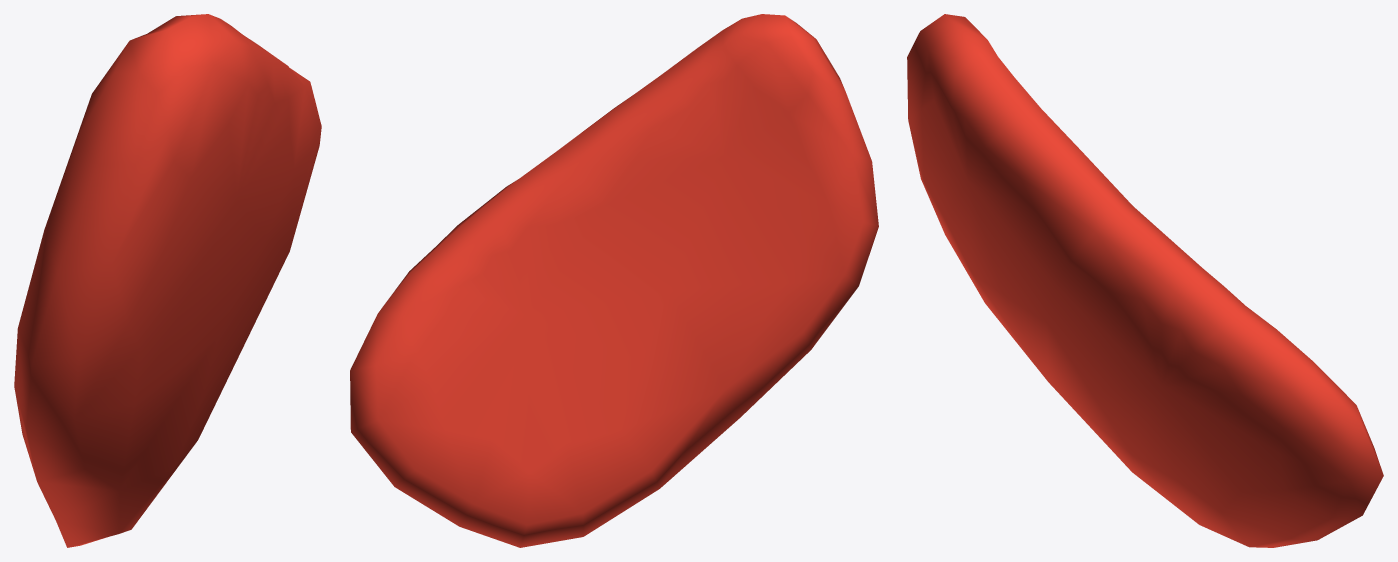
File: Opponens_digiti_minimi_on_tubercle_of_hamate_bone.r_Generated_M.glb
The picture shows the model from 3 angles, left to right: view 1: azimuth 30°, elevation 25°; view 2: azimuth 150°, elevation 25°; view 3: azimuth 270°, elevation 25°; orthographic projection. The views are drawn at different scales.
Visible parts, largest first — view 1: Opponens_digiti_minimi_on_tubercle_of_hamate_bone.r_Generate; view 2: Opponens_digiti_minimi_on_tubercle_of_hamate_bone.r_Generate; view 3: Opponens_digiti_minimi_on_tubercle_of_hamate_bone.r_Generate.
Part boxes in pixels (x1,y1,x2,y2): Opponens_digiti_minimi_on_tubercle_of_hamate_bone.r_Generate: [14, 14, 321, 547]; Opponens_digiti_minimi_on_tubercle_of_hamate_bone.r_Generate: [350, 14, 878, 547]; Opponens_digiti_minimi_on_tubercle_of_hamate_bone.r_Generate: [907, 14, 1383, 547].
Bounding box in the file's own units: 0.00276 × 0.00347 × 0.00314.
